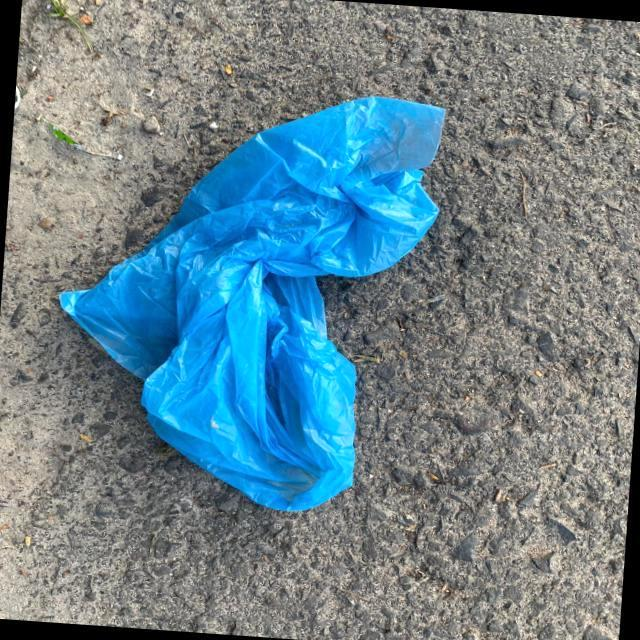polythene: (56, 55, 457, 519)
